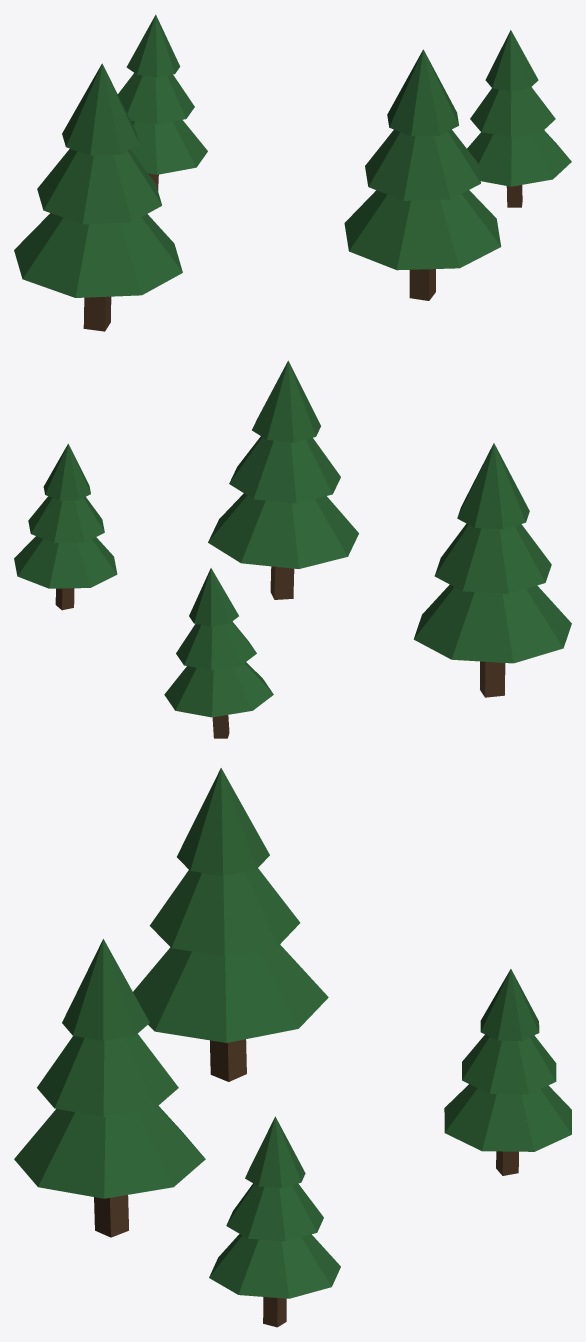
Rendered from procgen-rocksl-pine-xm1z0.obj.
3 renders of one model, top to bottom at view 1: azimuth 30°, elevation 25°; view 2: azimuth 150°, elevation 25°; view 3: azimuth 270°, elevation 25°, orthographic. The views are drawn at different scales.
Size of the model in its own units: 15.02 by 6.78 by 11.11.
